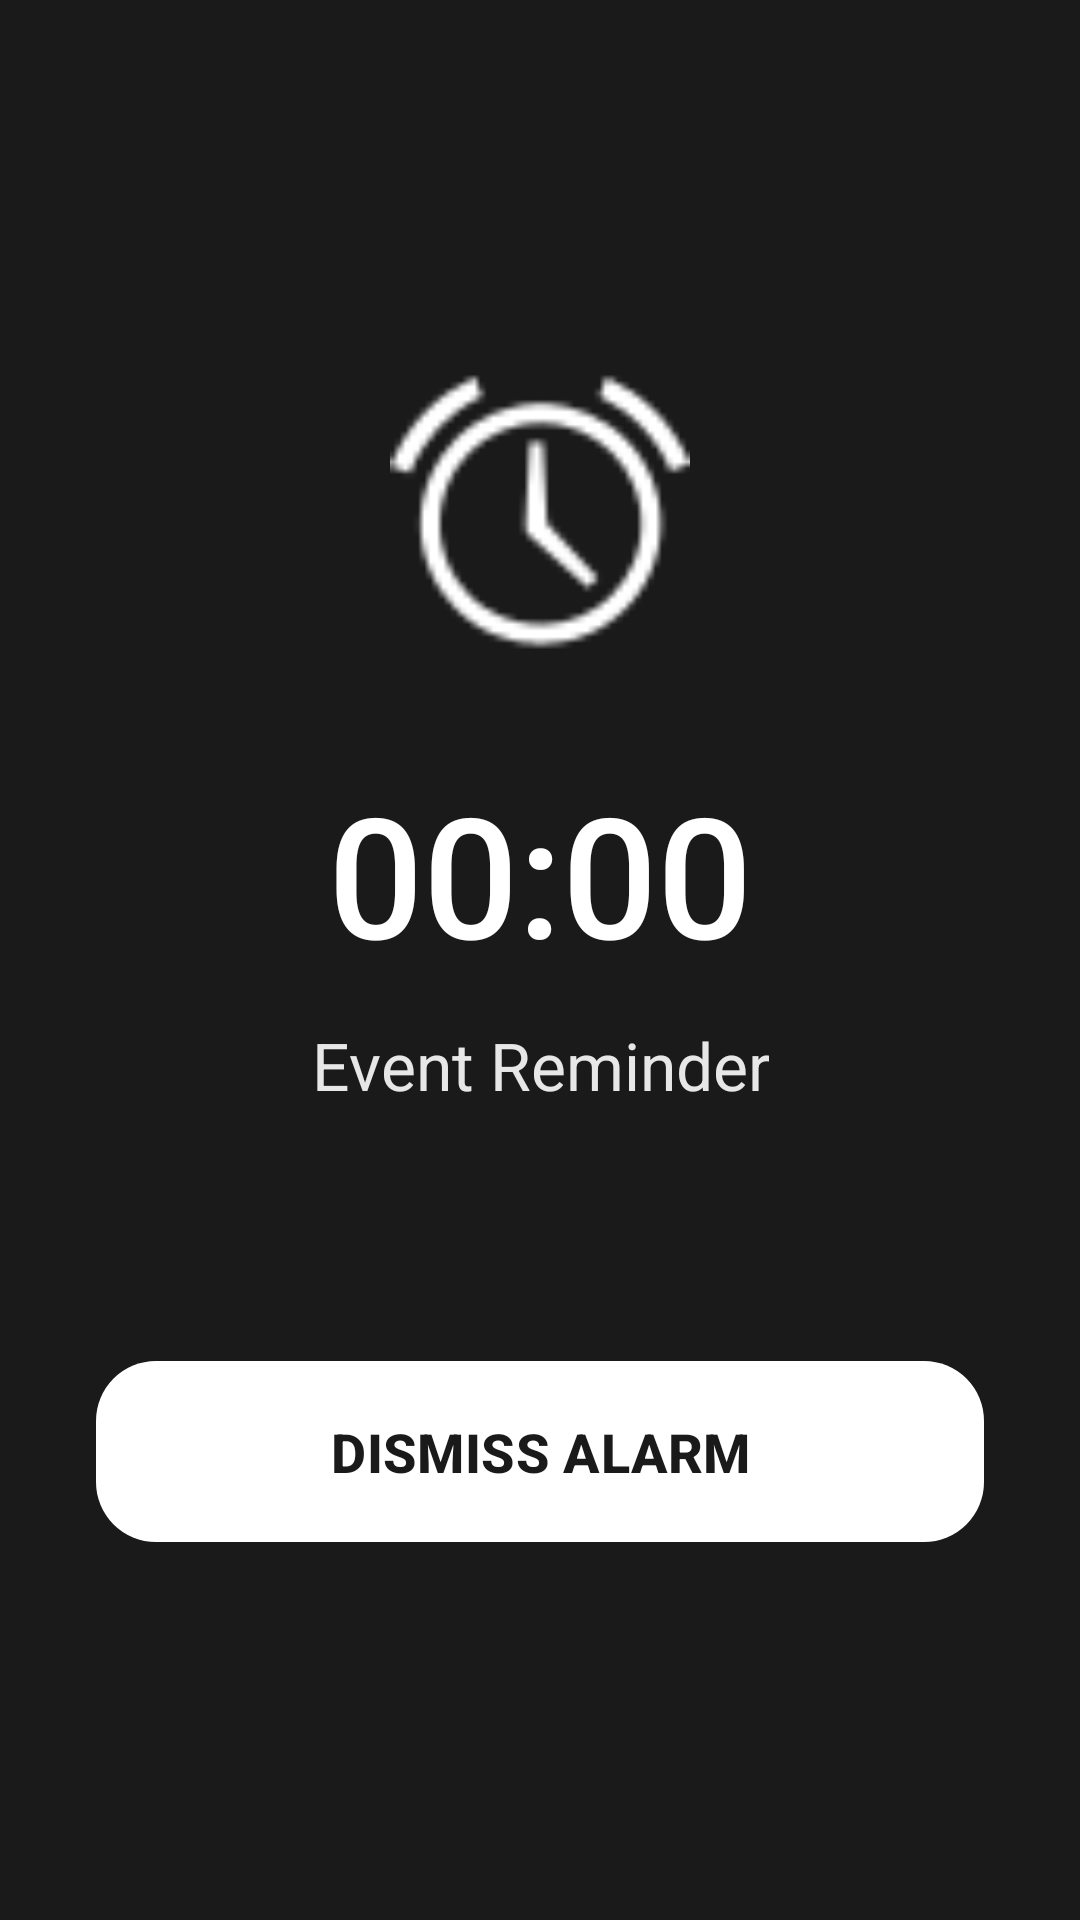

Where icons sit on this 1080x1920 app screen, as (x1, y1, x2, y2):
Alarm Icon: (390, 375, 690, 648)
